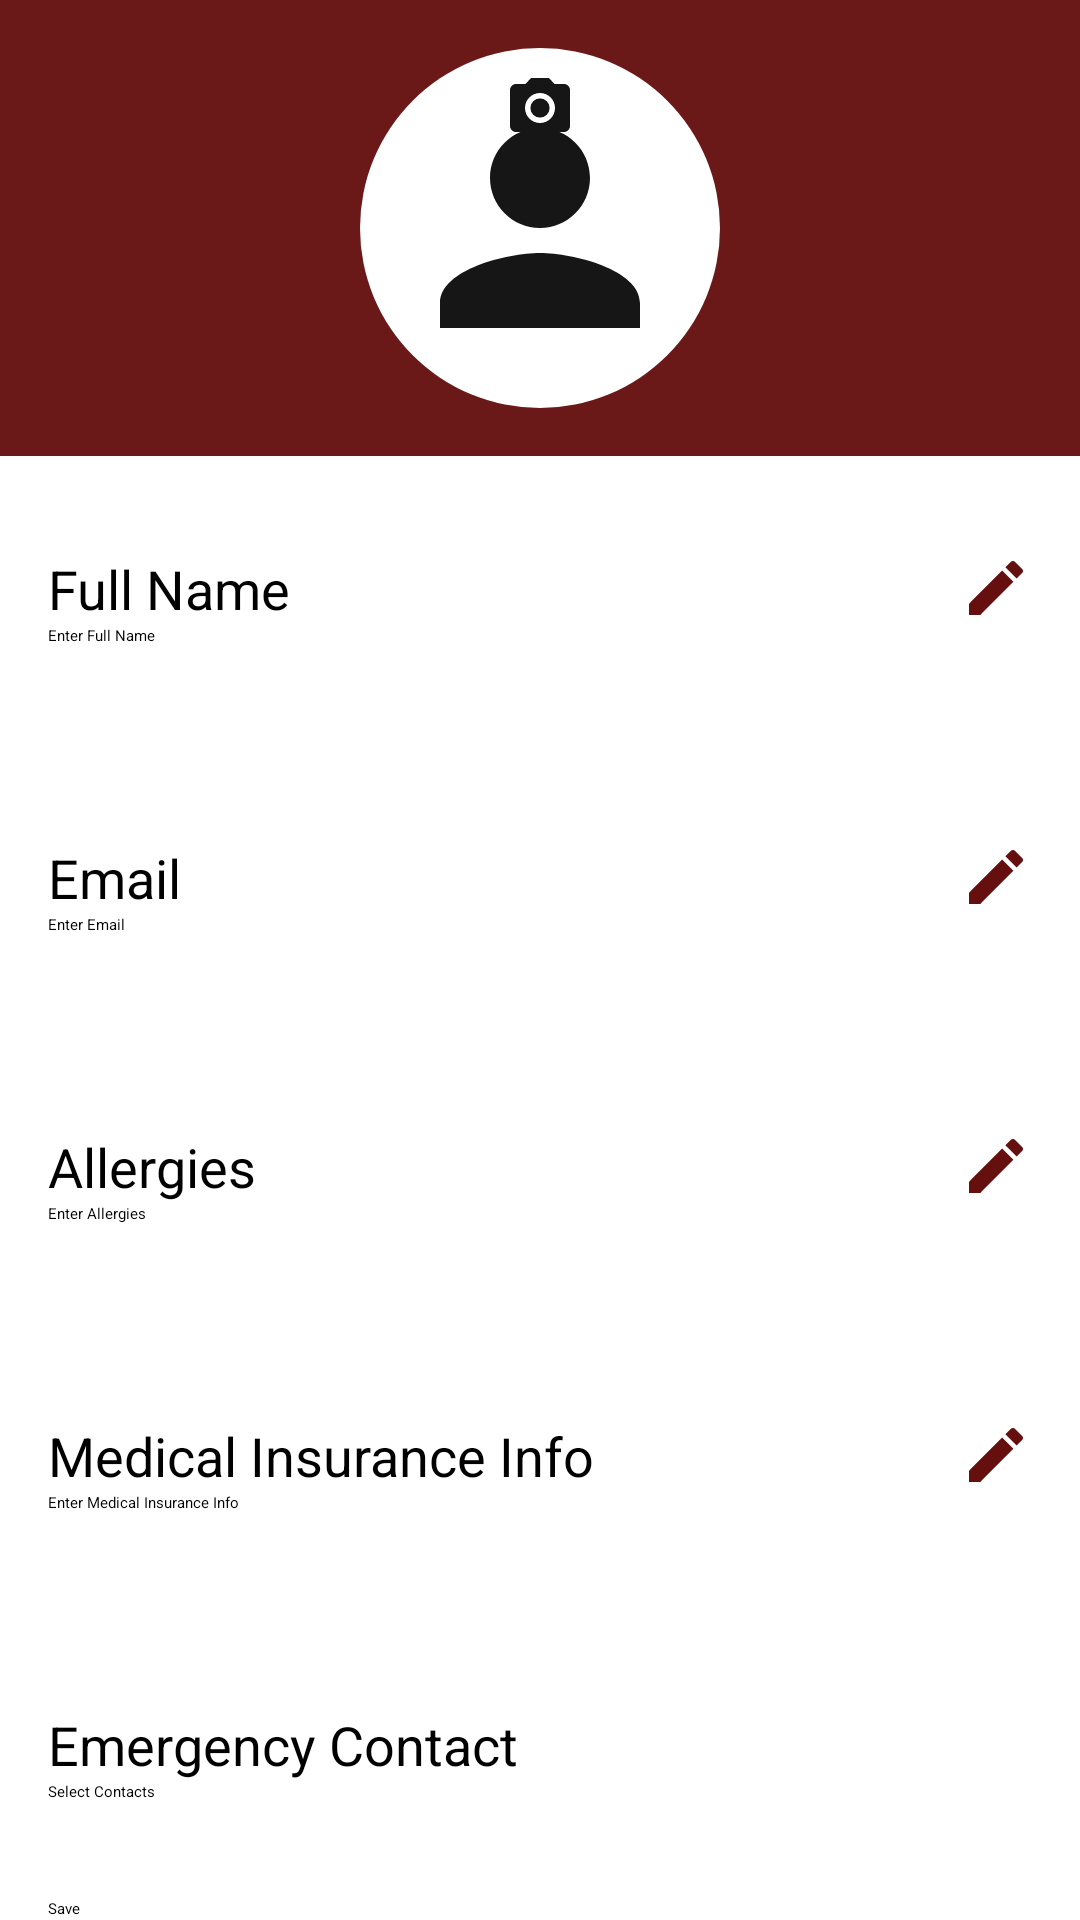

Icon bounding boxes for this 1080x1920 phone screenshot, format (x1, y1, x2, y2):
Edit Allergies: (969, 1139, 1023, 1193)
Edit Email: (969, 850, 1023, 904)
Edit Full Name: (969, 561, 1023, 615)
Edit Medical Insurance Info: (969, 1428, 1023, 1482)
